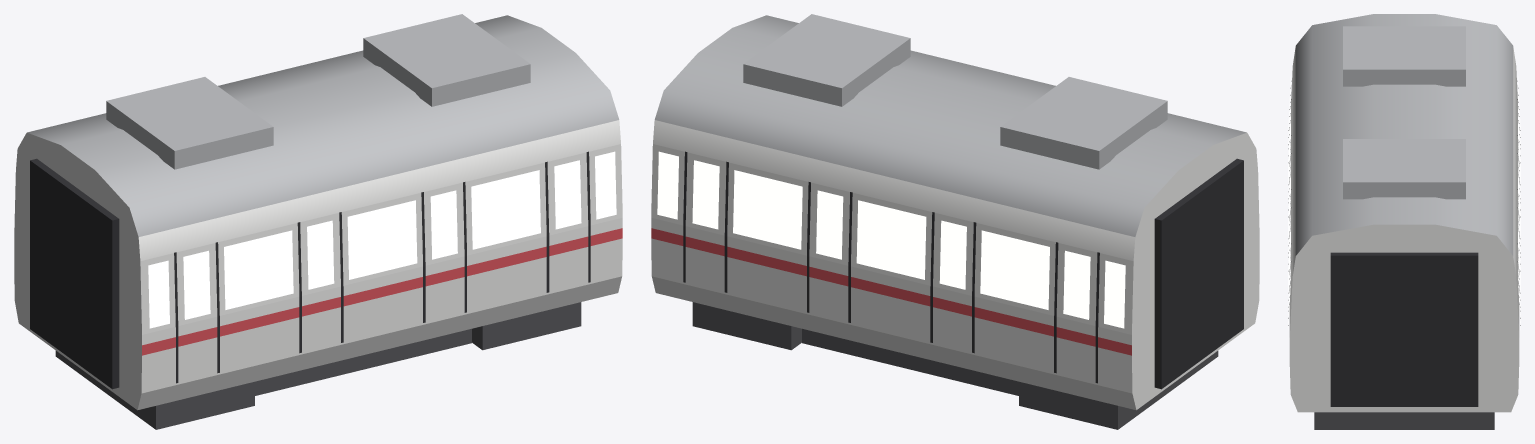
Rendered from tmb6000_car_lod1.glb.
3 renders of one model, left to right at view 1: azimuth 30°, elevation 25°; view 2: azimuth 150°, elevation 25°; view 3: azimuth 270°, elevation 25°, orthographic. The views are drawn at different scales.
Visible parts, largest first — view 1: TMB6000_car_lod1; view 2: TMB6000_car_lod1; view 3: TMB6000_car_lod1.
Part boxes in pixels (<box>): TMB6000_car_lod1: <box>14,14,622,429</box>; TMB6000_car_lod1: <box>651,14,1259,429</box>; TMB6000_car_lod1: <box>1288,14,1520,429</box>.
Size of the model in its own units: 0.5 by 0.25 by 0.227.
